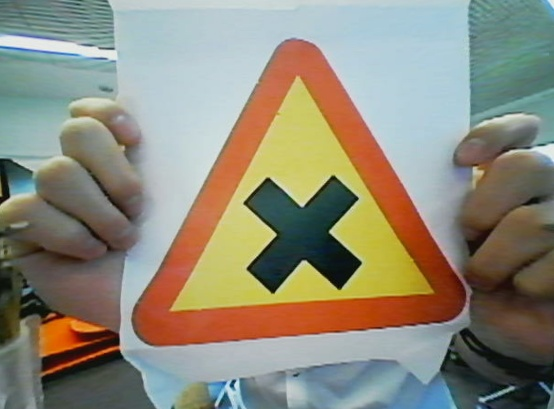junction: (111, 3, 479, 353)
